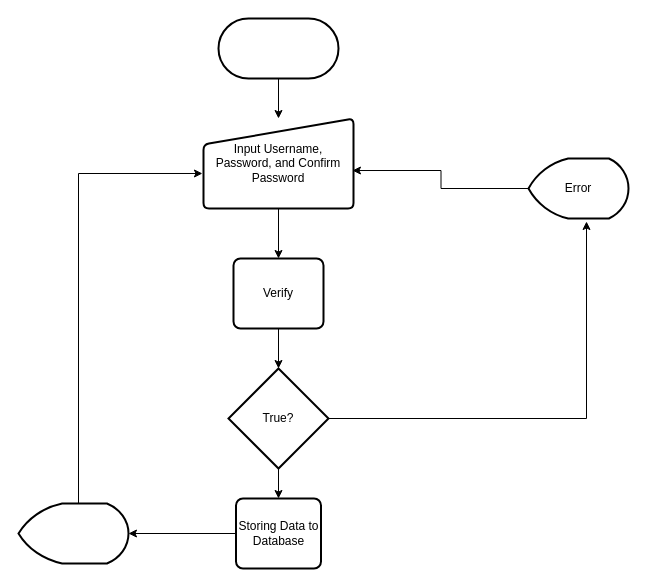
The diagram is 646 pixels wide and 586 high, and some of its shapes have lost their labels. The centre of each missing label's shape, as x and y in pixels:
Register Success: [73,533]
Start: [278,48]
